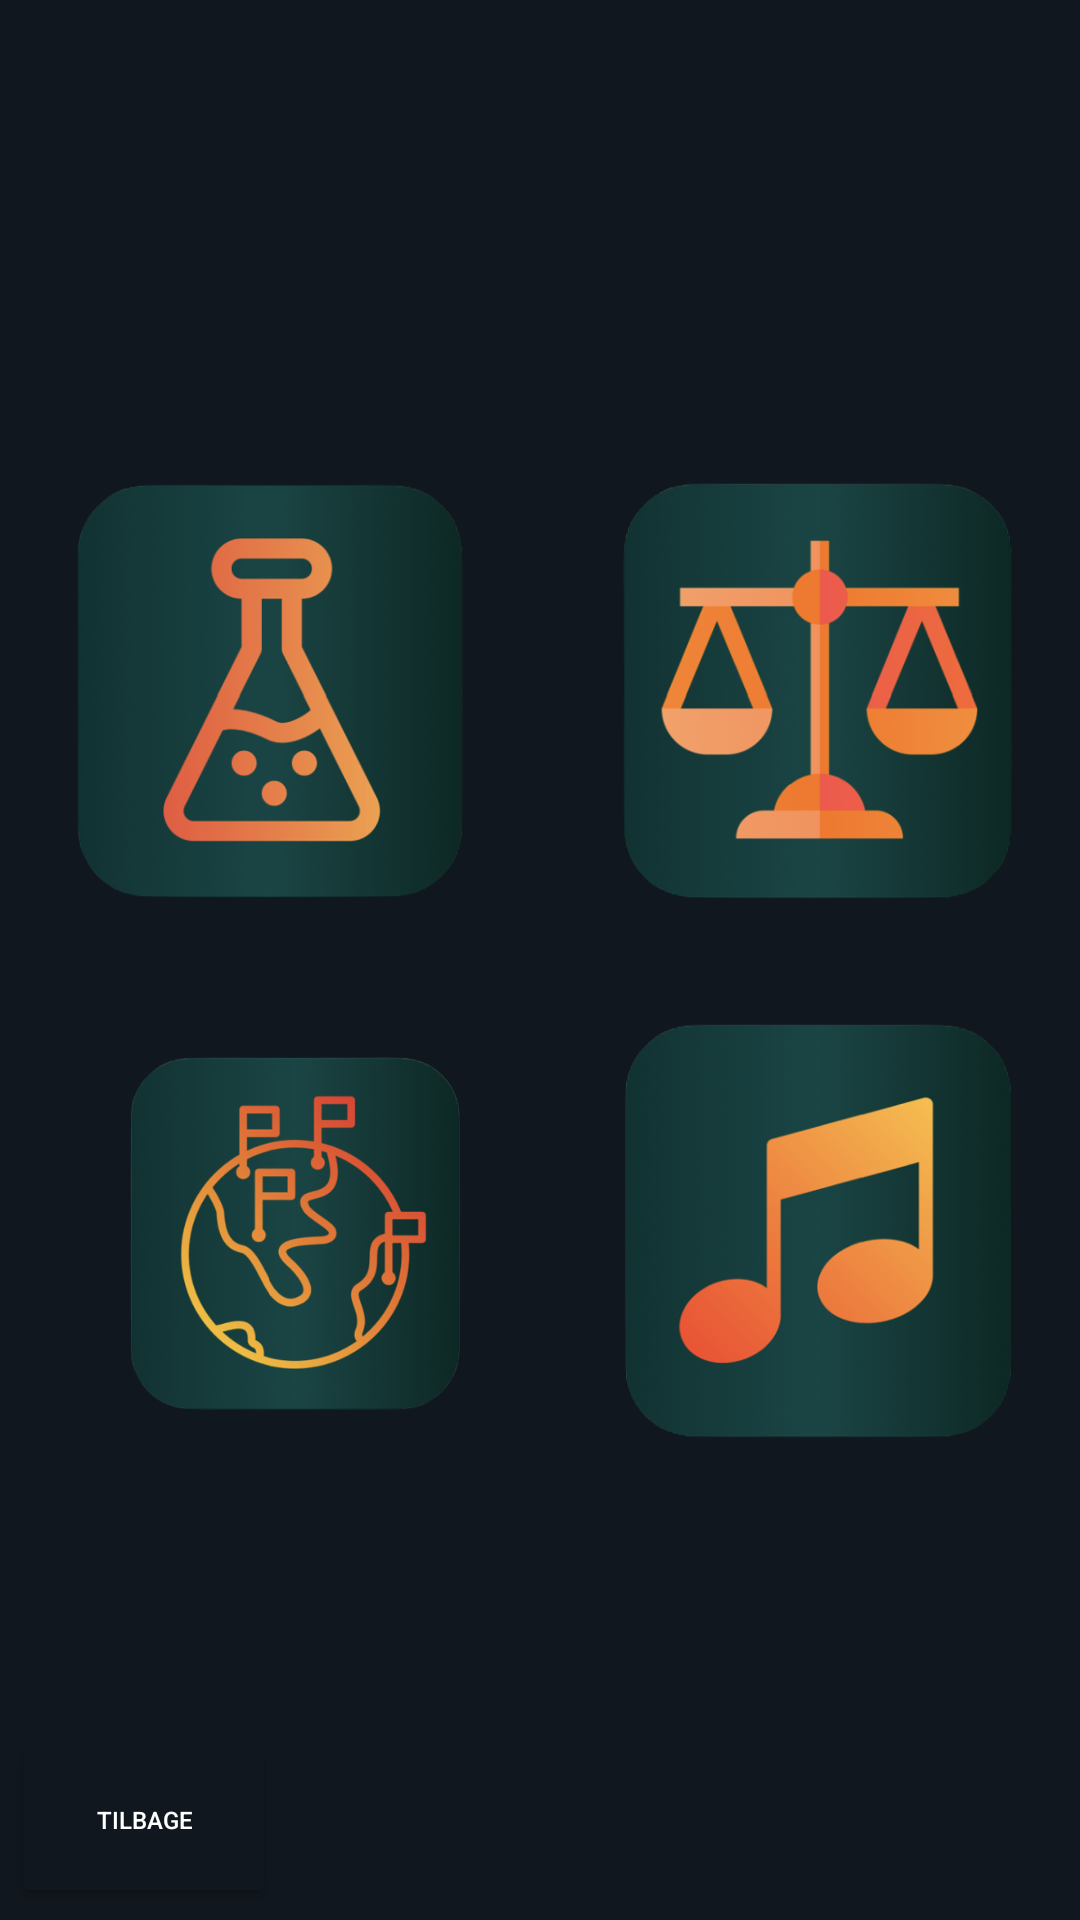

Where to tap for icons on this 1080x1920 app screen, as (x,y):
sprog app ikon: (295,1233)
